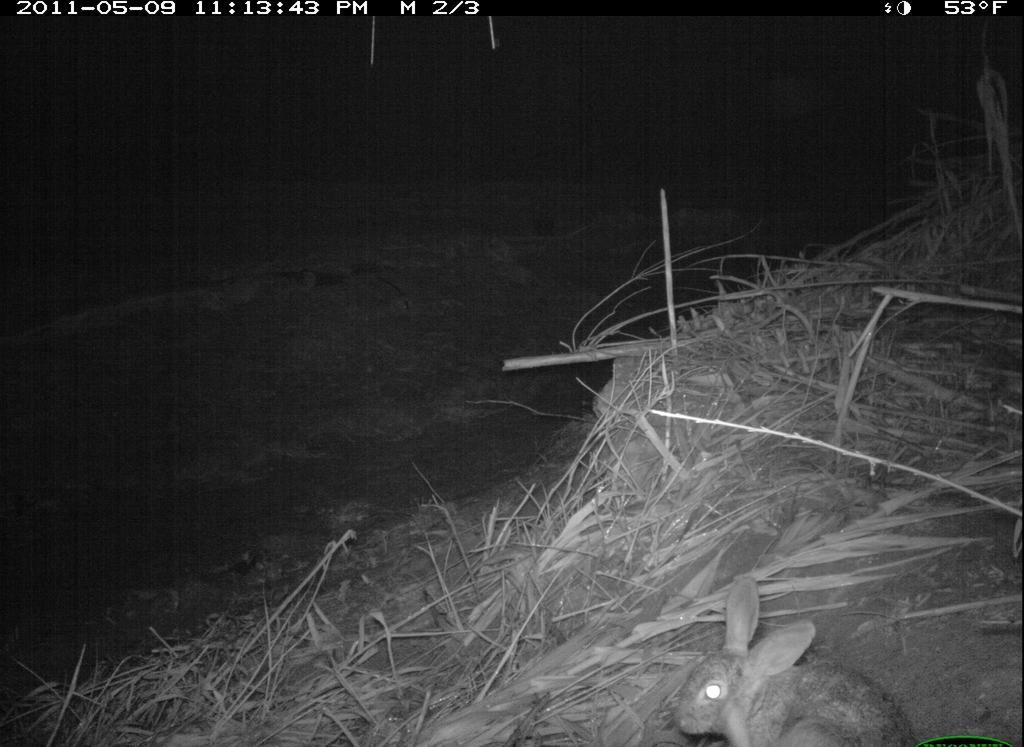rabbit: (675, 566, 948, 745)
